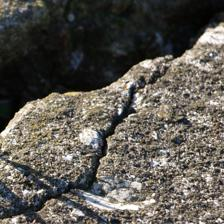Crack: (90, 68, 169, 173), (4, 180, 96, 222)
